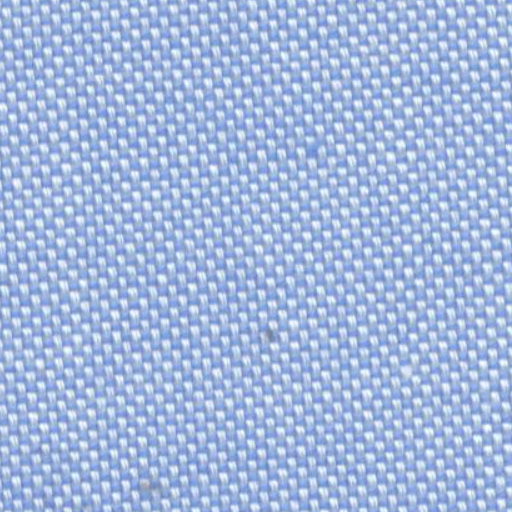WuZi: (118, 467, 188, 502), (248, 308, 288, 354)
